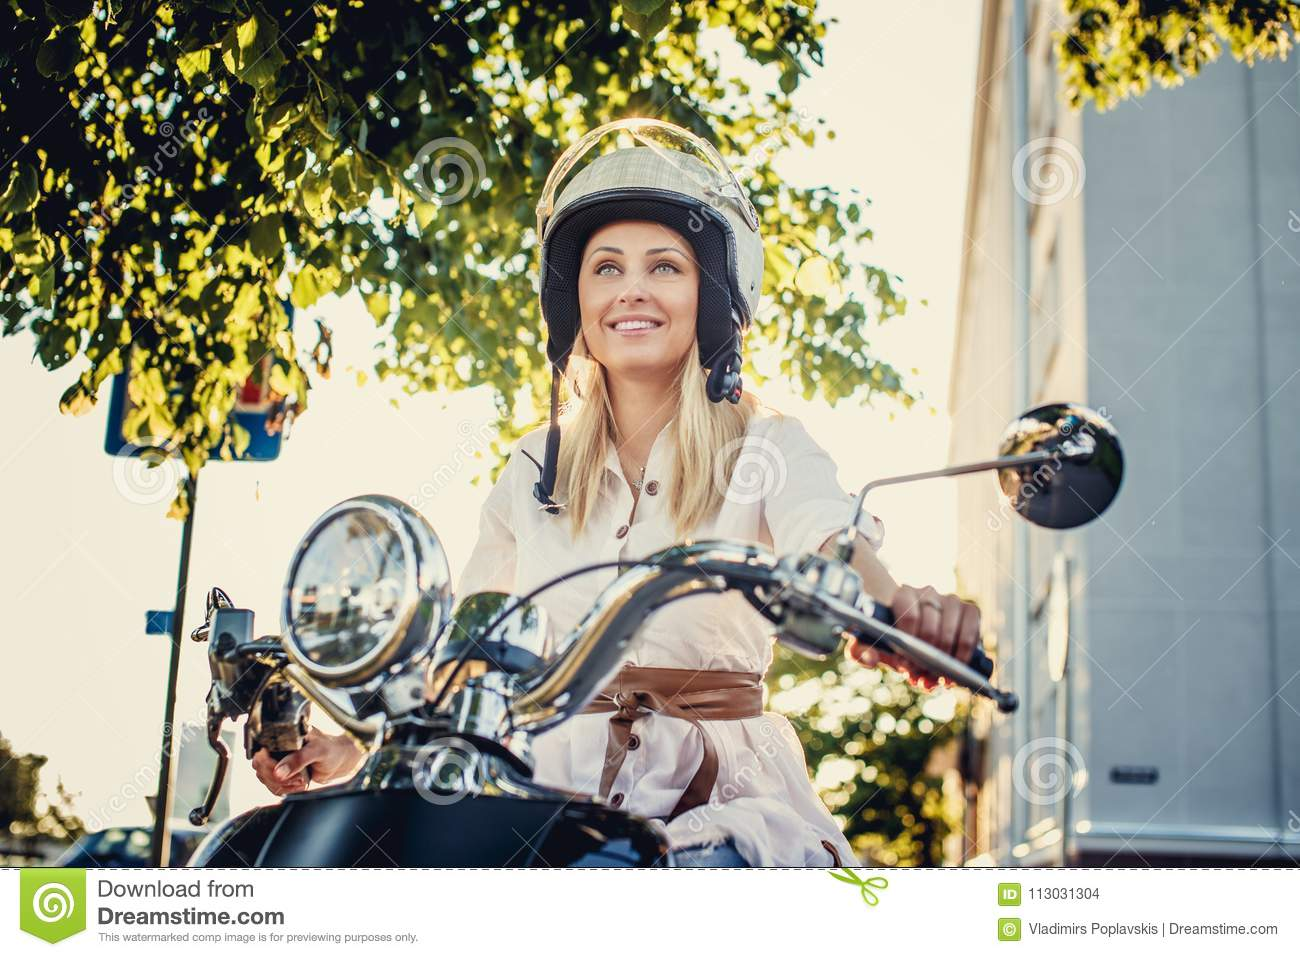helmet: (557, 149, 779, 321)
